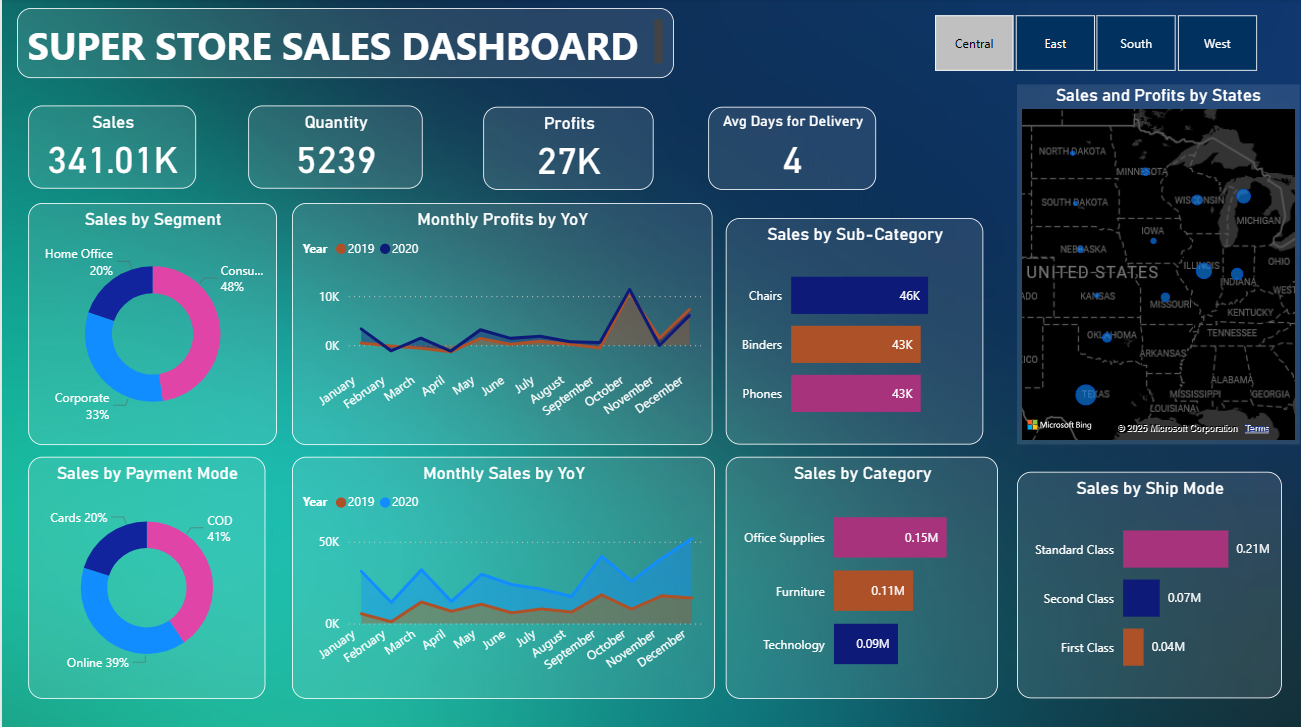

Layout of this report page (visuals, bound fields, positions):
{"tool":"powerbi","page":{"name":"Page 1","canvas":[1280,720],"ordinal":0},"visuals":[{"type":"barChart","title":"Sales by Category","fields":{"Category":["Sheet1.Category"],"Y":["Sum(Sheet1.Sales)"]},"box":[710,450,267.5,237.5],"z":0},{"type":"barChart","title":"Sales by Sub-Category","fields":{"Category":["Sheet1.Sub-Category"],"Y":["Sum(Sheet1.Sales)"]},"box":[710,216.2,252.5,222.5],"z":1000},{"type":"barChart","title":"Sales by Ship Mode","fields":{"Category":["Sheet1.Ship Mode"],"Y":["Sum(Sheet1.Sales)"]},"box":[996.2,465,260,222.5],"z":2000},{"type":"stackedAreaChart","title":"Monthly Sales by YoY","fields":{"Category":["Sheet1.Order Date.Variation.Date Hierarchy.Month","Sheet1.Order Date.Variation.Date Hierarchy.Day"],"Y":["Sum(Sheet1.Sales)"],"Series":["Sheet1.Order Date.Variation.Date Hierarchy.Year"]},"box":[285,450,415,237.5],"z":3000},{"type":"stackedAreaChart","title":"Monthly Profits by YoY","fields":{"Category":["Sheet1.Order Date.Variation.Date Hierarchy.Month","Sheet1.Order Date.Variation.Date Hierarchy.Day"],"Series":["Sheet1.Order Date.Variation.Date Hierarchy.Year"],"Y":["Sum(Sheet1.Profit)"]},"box":[285,201.2,412.5,237.5],"z":4000},{"type":"map","title":"Sales and Profits by States","fields":{"Category":["Sheet1.State"],"Size":["Sum(Sheet1.Sales)"]},"box":[996.2,85,277.5,353.8],"z":5000},{"type":"donutChart","title":"Sales by Segment","fields":{"Category":["Sheet1.Segment"],"Y":["Sum(Sheet1.Sales)"]},"box":[26.2,201.2,243.8,237.5],"z":6000},{"type":"donutChart","title":"Sales by Payment Mode","fields":{"Category":["Sheet1.Payment Mode"],"Y":["Sum(Sheet1.Sales)"]},"box":[26.2,450,232.5,237.5],"z":7000},{"type":"slicer","fields":{"Values":["Sheet1.Region"]},"box":[890,10,366.2,68.8],"z":8000},{"type":"textbox","box":[15,10,645,68.8],"z":9000},{"type":"card","title":"Sales","fields":{"Values":["Sum(Sheet1.Sales)"]},"box":[26.2,105,165,81.2],"z":10000},{"type":"card","title":"Quantity","fields":{"Values":["Sum(Sheet1.Quantity)"]},"box":[241.2,105,171.2,81.2],"z":11000},{"type":"card","title":"Profits","fields":{"Values":["Sum(Sheet1.Profit)"]},"box":[472.5,106.2,167.5,81.2],"z":12000},{"type":"card","title":"Avg Days for Delivery","fields":{"Values":["Avg(Sheet1.AvgDeliveryTime)"]},"box":[693.8,106.2,165,81.2],"z":13000}]}

Visuals, with their boxes in screenshot pixels (x1, y1, x2, y2), scaled from the page's 1280x720 canvas onto the 1301x727 screenshot:
"Sales by Category" barChart: box=[722, 454, 994, 694]
"Sales by Sub-Category" barChart: box=[722, 218, 978, 443]
"Sales by Ship Mode" barChart: box=[1013, 470, 1277, 694]
"Monthly Sales by YoY" stackedAreaChart: box=[290, 454, 711, 694]
"Monthly Profits by YoY" stackedAreaChart: box=[290, 203, 709, 443]
"Sales and Profits by States" map: box=[1013, 86, 1295, 443]
"Sales by Segment" donutChart: box=[27, 203, 274, 443]
"Sales by Payment Mode" donutChart: box=[27, 454, 263, 694]
slicer - Sheet1.Region: box=[905, 10, 1277, 80]
textbox: box=[15, 10, 671, 80]
"Sales" card: box=[27, 106, 194, 188]
"Quantity" card: box=[245, 106, 419, 188]
"Profits" card: box=[480, 107, 650, 189]
"Avg Days for Delivery" card: box=[705, 107, 873, 189]
